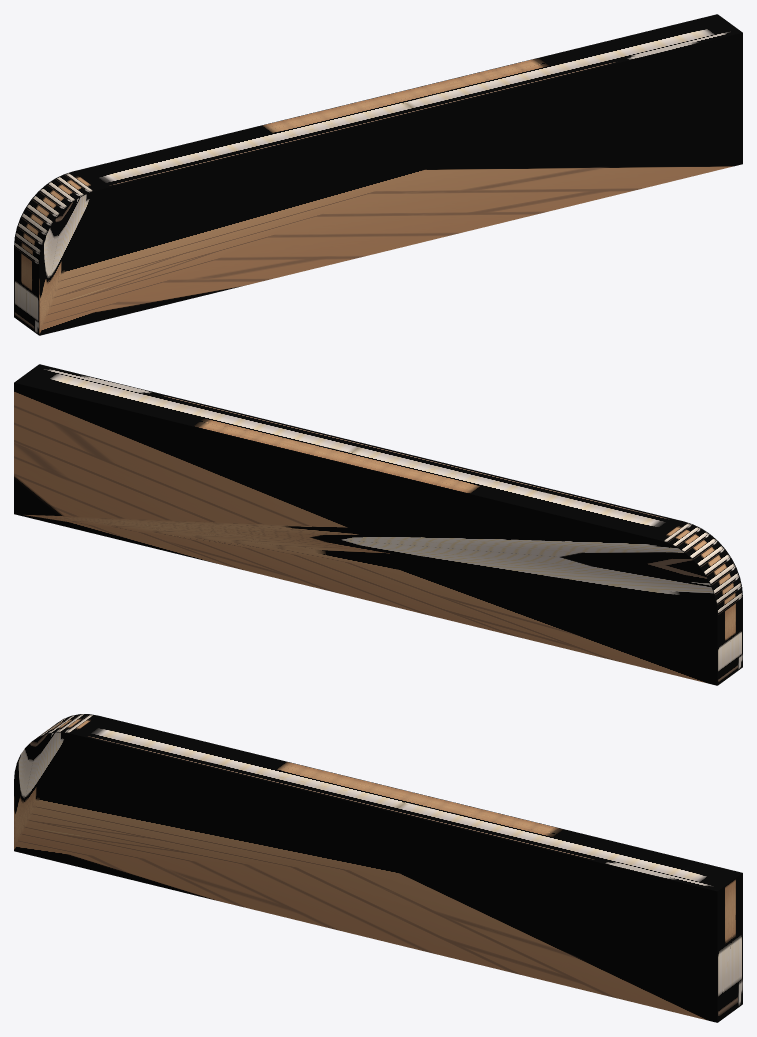
Rendered from UpWall.fbx.
The picture shows the model from 3 angles, top to bottom: view 1: azimuth 30°, elevation 25°; view 2: azimuth 150°, elevation 25°; view 3: azimuth 330°, elevation 25°; orthographic projection.
Visible parts, largest first — view 1: Cube.036; view 2: Cube.036; view 3: Cube.036.
Boxes of the visible parts, <box> form: Cube.036: <box>14,14,742,335</box>; Cube.036: <box>14,364,742,685</box>; Cube.036: <box>14,714,742,1022</box>.
Bounding box in the file's own units: 999 × 178 × 62.38.
